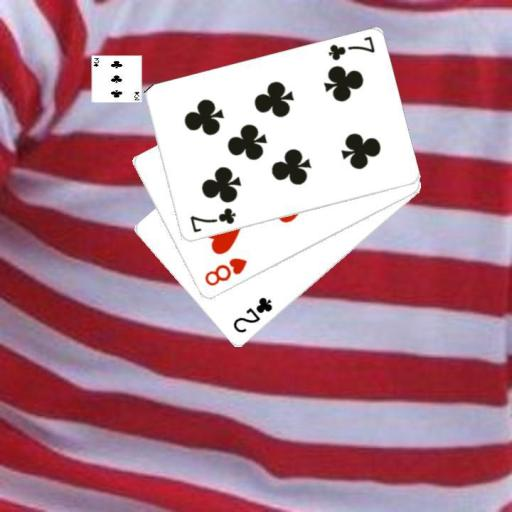2C: (230, 294, 275, 335)
7C: (186, 205, 237, 235), (325, 33, 376, 63)
8H: (201, 255, 249, 288)
